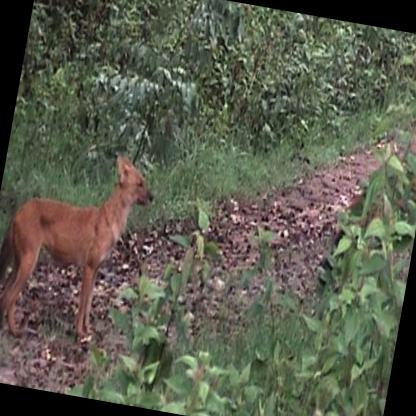dhole: (0, 132, 160, 359)
